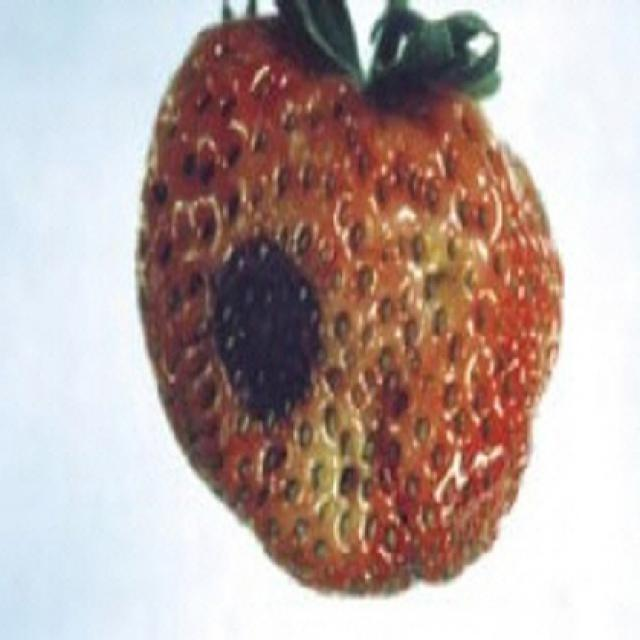Anthracnose Fruit Rot: (205, 231, 329, 427)
